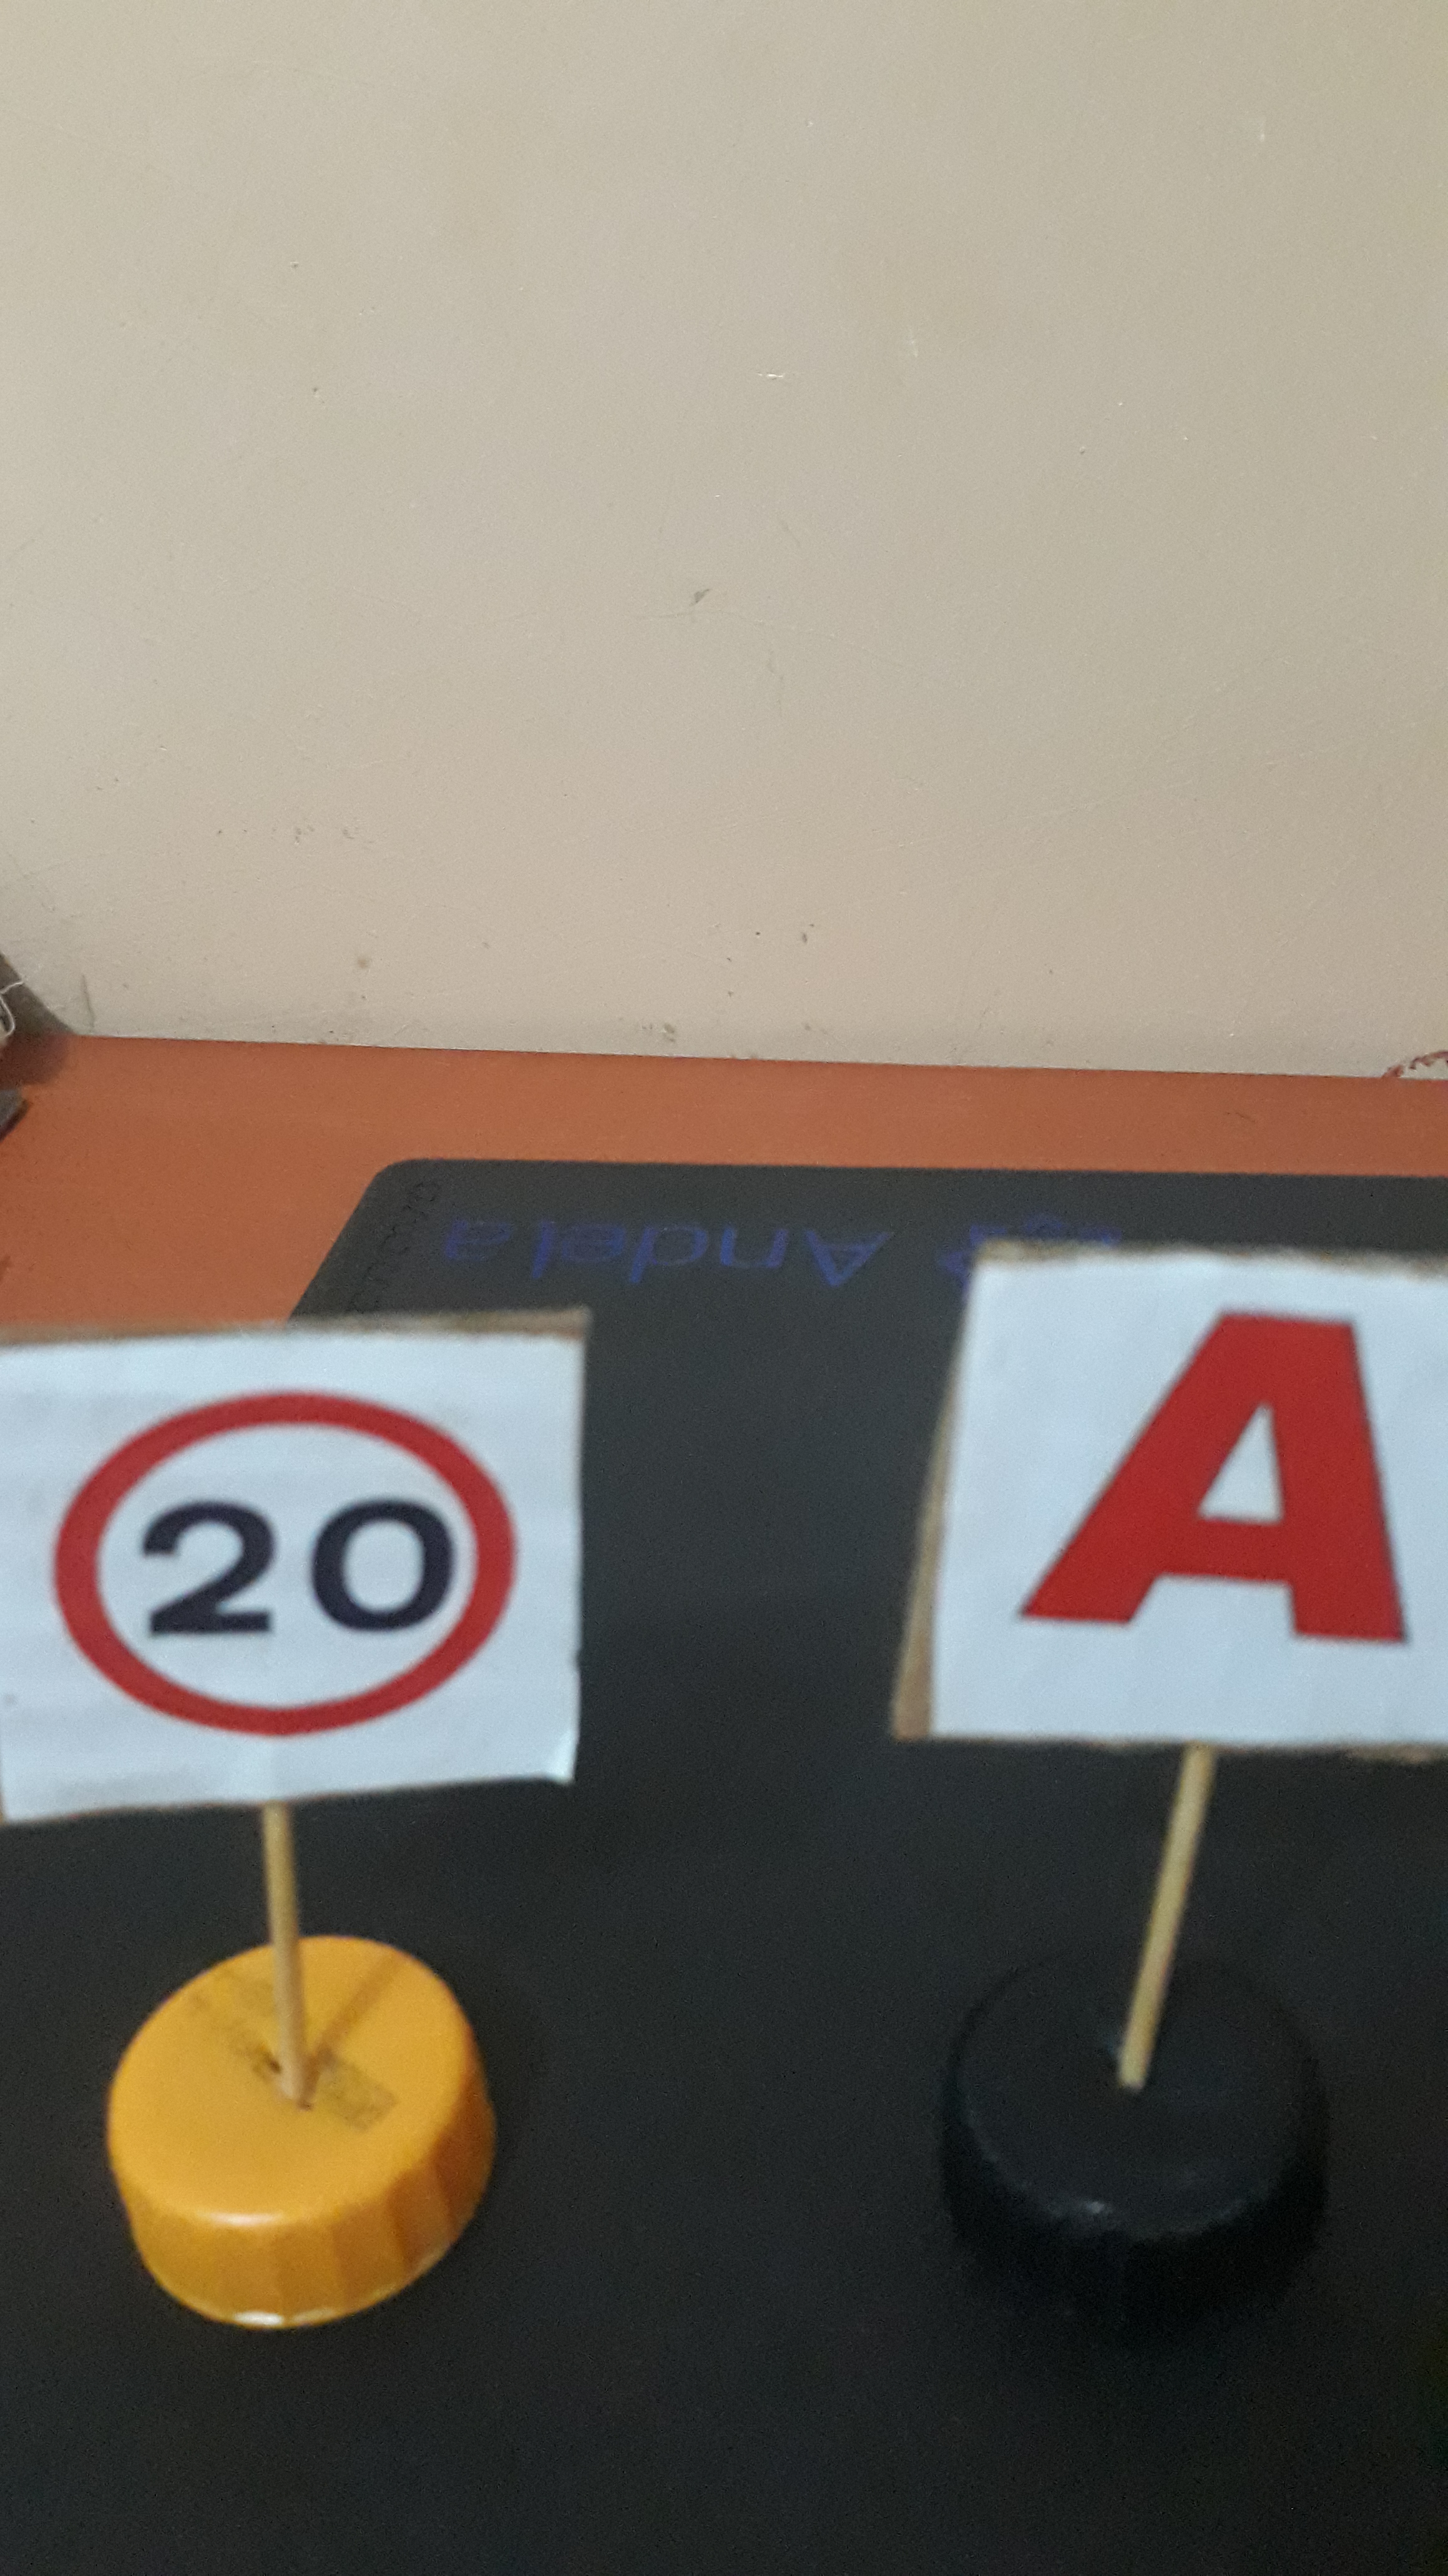20 kph: (21, 1362, 540, 1771)
zone A: (1005, 1295, 1414, 1716)
